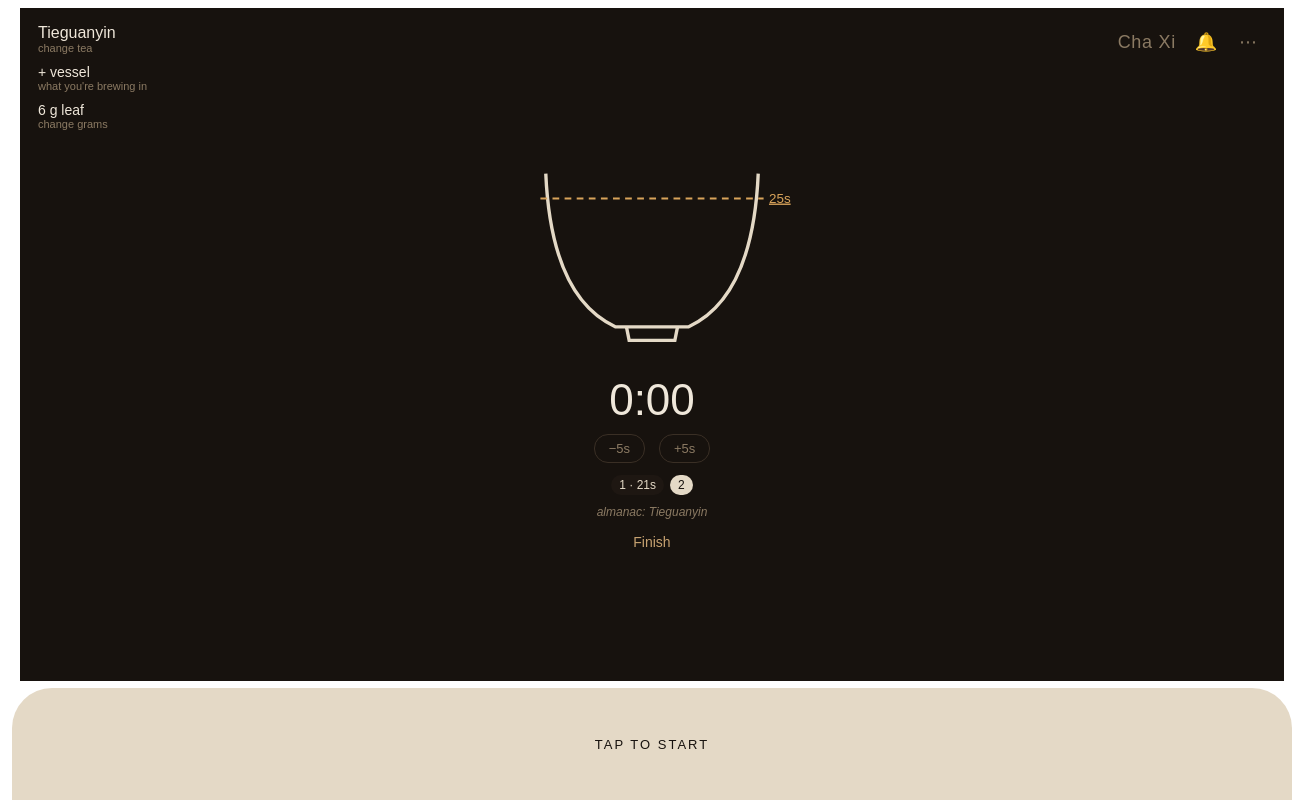
Test case: TimerPage › keeps the session when switching fails
Click the button with test id "timer-menu".
click(1248, 42)  # box [1230,24,1266,60]
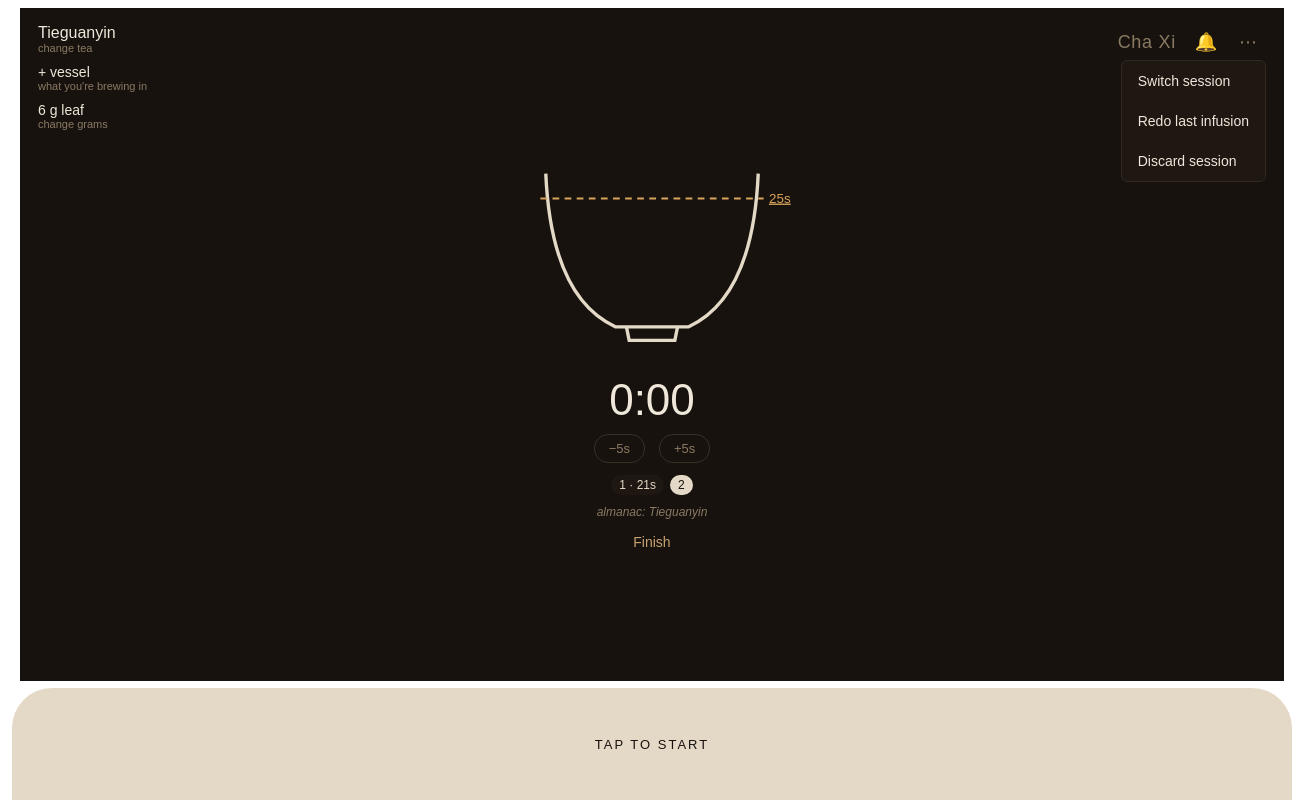
Click the button with test id "timer-switch".
click(1193, 81)  # box [1122,61,1265,101]
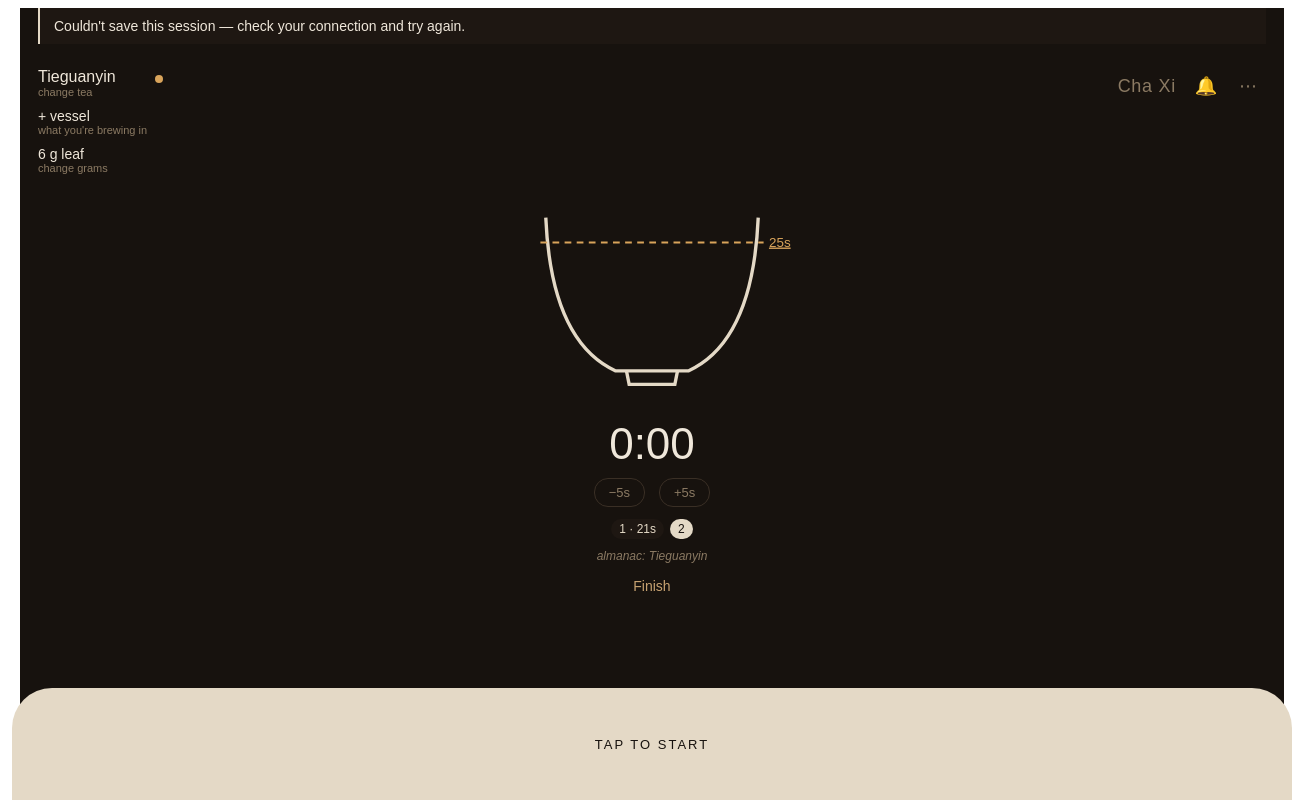
Now the text with test id "timer-error" shows "Couldn't save", box [54,18,465,34]
